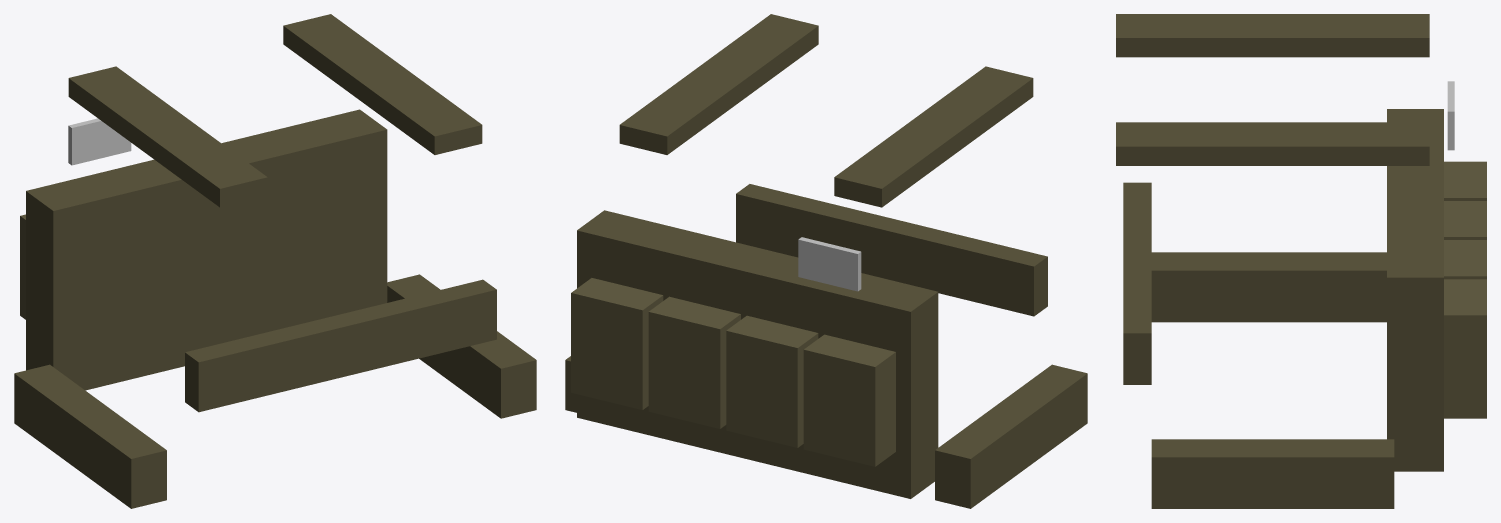
The model's file is Vest_Red.fbx.
The picture shows the model from 3 angles, left to right: view 1: azimuth 30°, elevation 25°; view 2: azimuth 150°, elevation 25°; view 3: azimuth 270°, elevation 25°; orthographic projection. The views are drawn at different scales.
Visible parts, largest first — view 1: ChestRig, BackStrap, Belt-1, Strap-1, Strap1, Belt1, TeamPatch, Pouch0; view 2: ChestRig, BackStrap, Belt-1, Strap-1, Strap1, Pouch0, Pouch2, Pouch3, Pouch1, TeamPatch; view 3: ChestRig, Belt1, Belt-1, Strap-1, Strap1, Pouch3, BackStrap, Pouch0, Pouch2, Pouch1, TeamPatch.
Part boxes in pixels (x1,y1,x2,y2): ChestRig: (26,109,387,390); BackStrap: (185,279,496,412); Belt-1: (14,364,166,508); Strap-1: (68,66,267,207); Strap1: (283,14,482,154); Belt1: (387,274,536,418); TeamPatch: (68,118,131,165); Pouch0: (20,214,25,319); ChestRig: (577,210,938,498); BackStrap: (736,184,1047,316); Belt-1: (935,364,1087,508); Strap-1: (834,66,1033,207); Strap1: (619,14,818,154); Pouch0: (803,334,895,466); Pouch2: (648,296,740,428); Pouch3: (571,278,663,409); Pouch1: (726,315,818,447); TeamPatch: (798,237,861,291); ChestRig: (1387,109,1443,471); Belt1: (1151,439,1394,508); Belt-1: (1151,252,1386,322); Strap-1: (1116,14,1429,57); Strap1: (1116,122,1429,165); Pouch3: (1444,279,1486,418); BackStrap: (1123,182,1151,384); Pouch0: (1444,161,1486,200); Pouch2: (1444,240,1486,279); Pouch1: (1444,201,1486,239); TeamPatch: (1447,81,1454,150).
Size of the model in its own units: 68 by 52 by 50.5.
